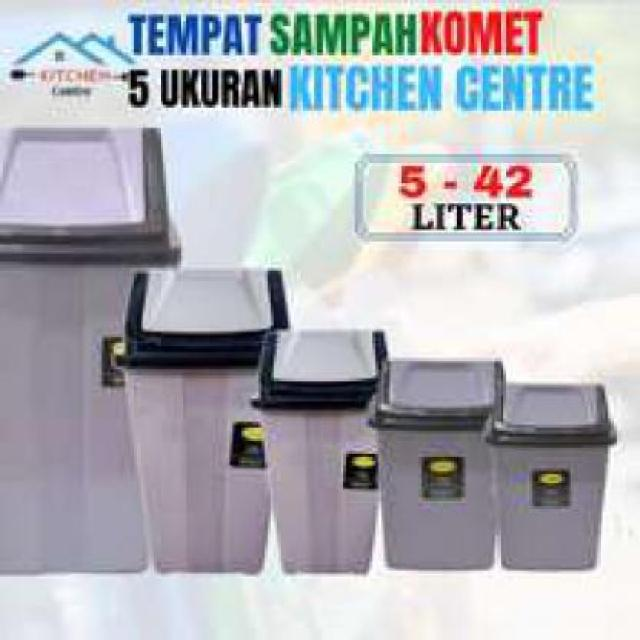garbage container: (3, 124, 182, 581), (119, 268, 298, 581), (251, 324, 385, 592), (383, 350, 508, 578), (490, 376, 627, 581)
